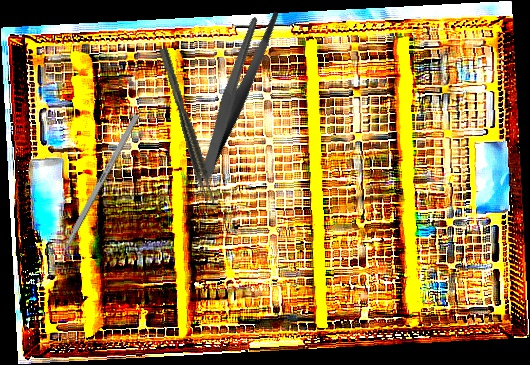Dressing Forceps: (160, 2, 313, 181)
Pusher: (50, 113, 140, 274)
Tissue Forceps: (159, 45, 217, 208)
